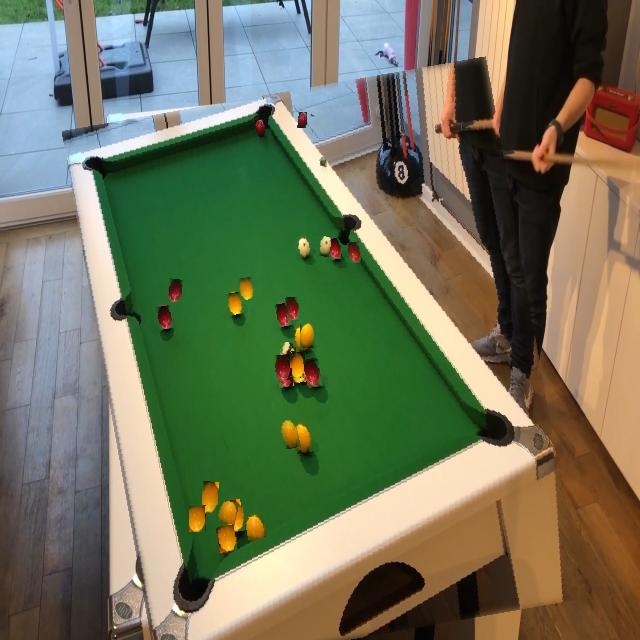Ball: (280, 419, 300, 448), (201, 482, 219, 514), (218, 501, 238, 525), (190, 506, 208, 532), (304, 358, 320, 385), (276, 354, 292, 381), (291, 352, 305, 378), (239, 278, 255, 300), (300, 323, 314, 348), (168, 279, 182, 302), (286, 297, 299, 320), (348, 242, 362, 263), (280, 342, 297, 358), (318, 237, 331, 257), (298, 112, 307, 128)
Billiard table: (83, 72, 559, 640)
